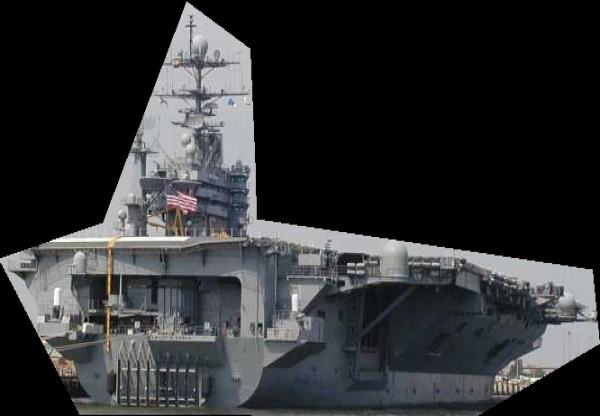Aircraft Carrier: (0, 1, 600, 416)
